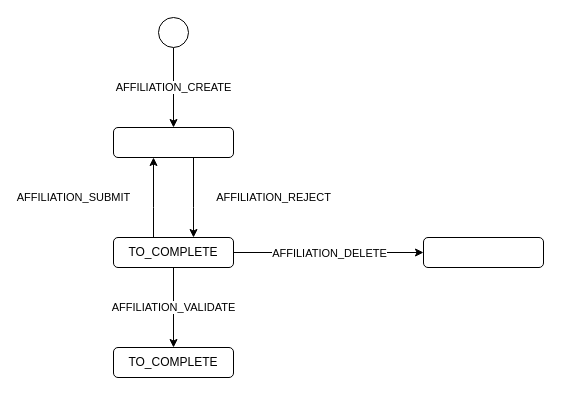
The diagram is 561 pixels wide and 395 high, and some of its shapes have lost their labels. Here are the shapes that lost their labels. From the top down, the centre of each, then its label:
At pixel 173 142: "TO_VALIDATE".
At pixel 483 252: "DELETED".
